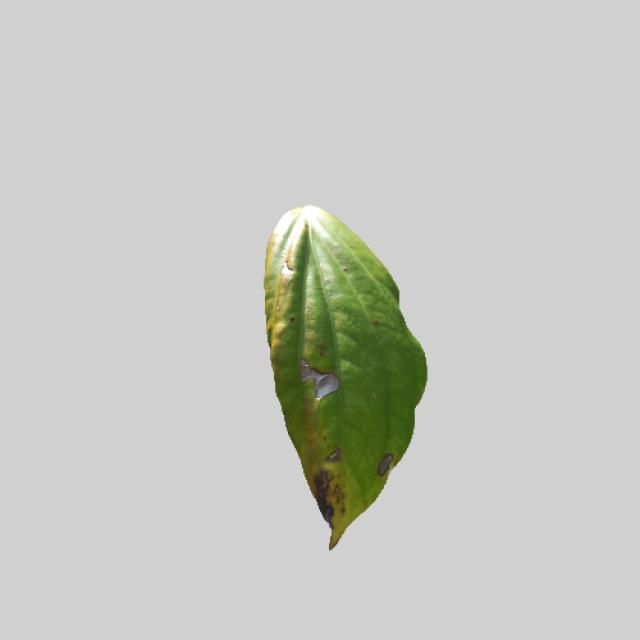yellow-mottle-virus: (248, 200, 428, 550)
